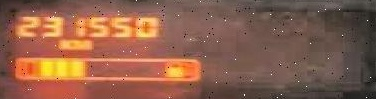0: (134, 15, 160, 38)
1: (69, 16, 85, 36)
2: (16, 13, 38, 37)
3: (38, 13, 62, 37)
5: (107, 14, 131, 37), (87, 14, 107, 37)
X: (72, 38, 92, 49), (56, 38, 69, 49)
